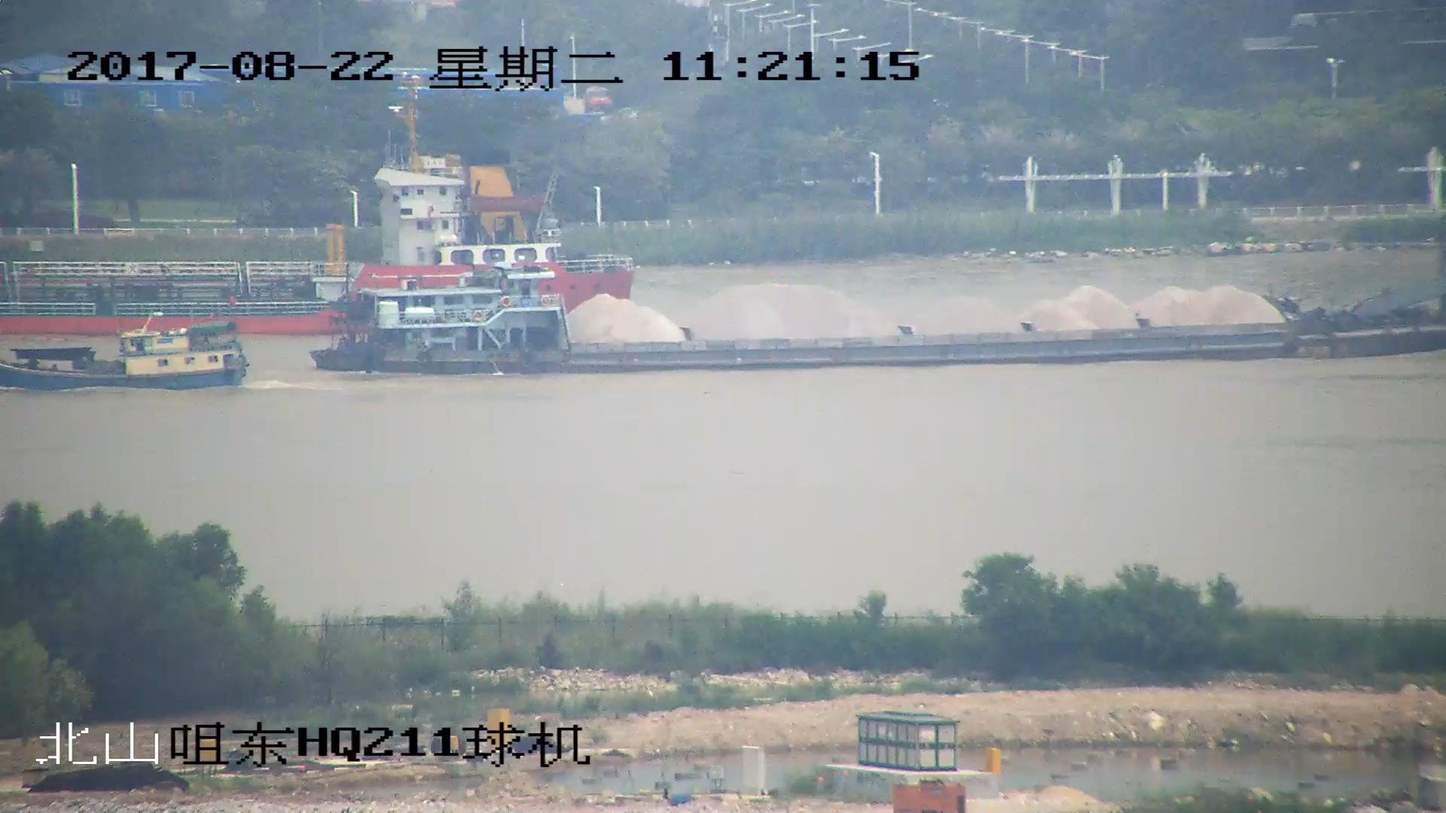fishing boat: (0, 315, 247, 392)
general cargo ship: (0, 90, 638, 331)
ore carrier: (310, 279, 1445, 373)
